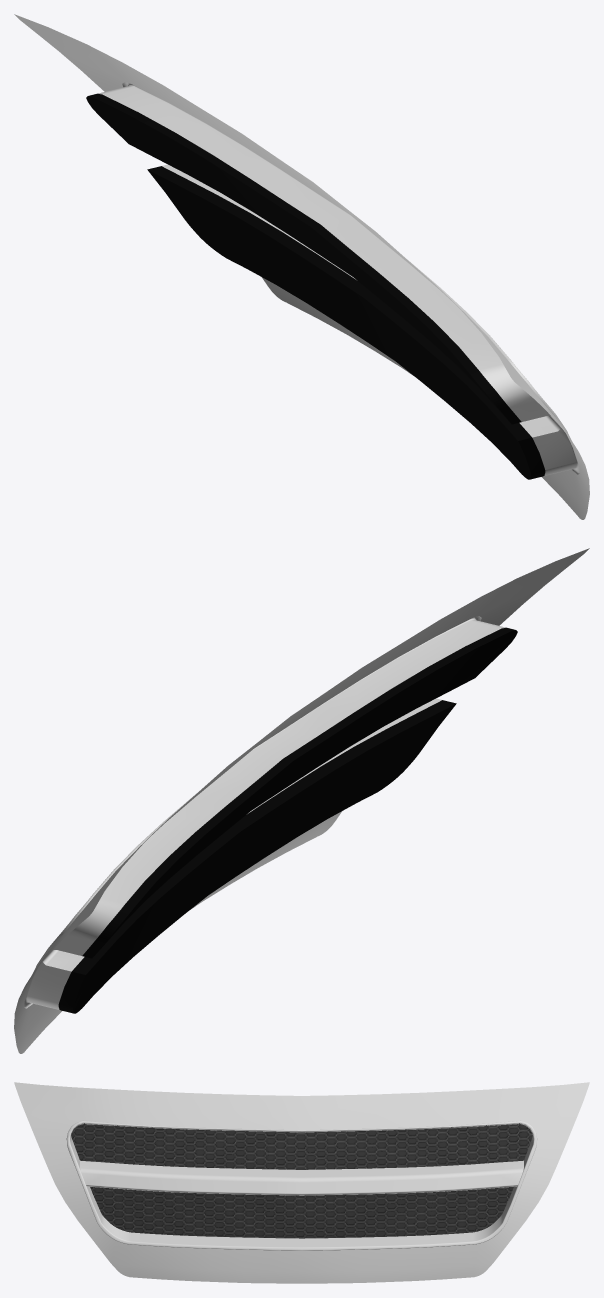
3 renders of one model, top to bottom at view 1: azimuth 30°, elevation 25°; view 2: azimuth 150°, elevation 25°; view 3: azimuth 270°, elevation 25°, orthographic. The views are drawn at different scales.
Visible parts, largest first — view 1: N664_9A_041B_C_N664_9A_041B_C_3_D, N664_9A_041B_C_1_DaS_N664_9A_041B_C; view 2: N664_9A_041B_C_N664_9A_041B_C_3_D, N664_9A_041B_C_1_DaS_N664_9A_041B_C; view 3: N664_9A_041B_C_1_DaS_N664_9A_041B_C, N664_9A_041B_C_N664_9A_041B_C_2_D.
Part boxes in pixels (x1,y1,x2,y2): N664_9A_041B_C_N664_9A_041B_C_3_D: (86, 93, 545, 479); N664_9A_041B_C_1_DaS_N664_9A_041B_C: (14, 14, 589, 519); N664_9A_041B_C_N664_9A_041B_C_3_D: (58, 627, 517, 1013); N664_9A_041B_C_1_DaS_N664_9A_041B_C: (14, 548, 589, 1053); N664_9A_041B_C_1_DaS_N664_9A_041B_C: (14, 1082, 589, 1283); N664_9A_041B_C_N664_9A_041B_C_2_D: (71, 1124, 532, 1238).
Bounding box in the file's own units: 19.87 × 25.51 × 89.43.
